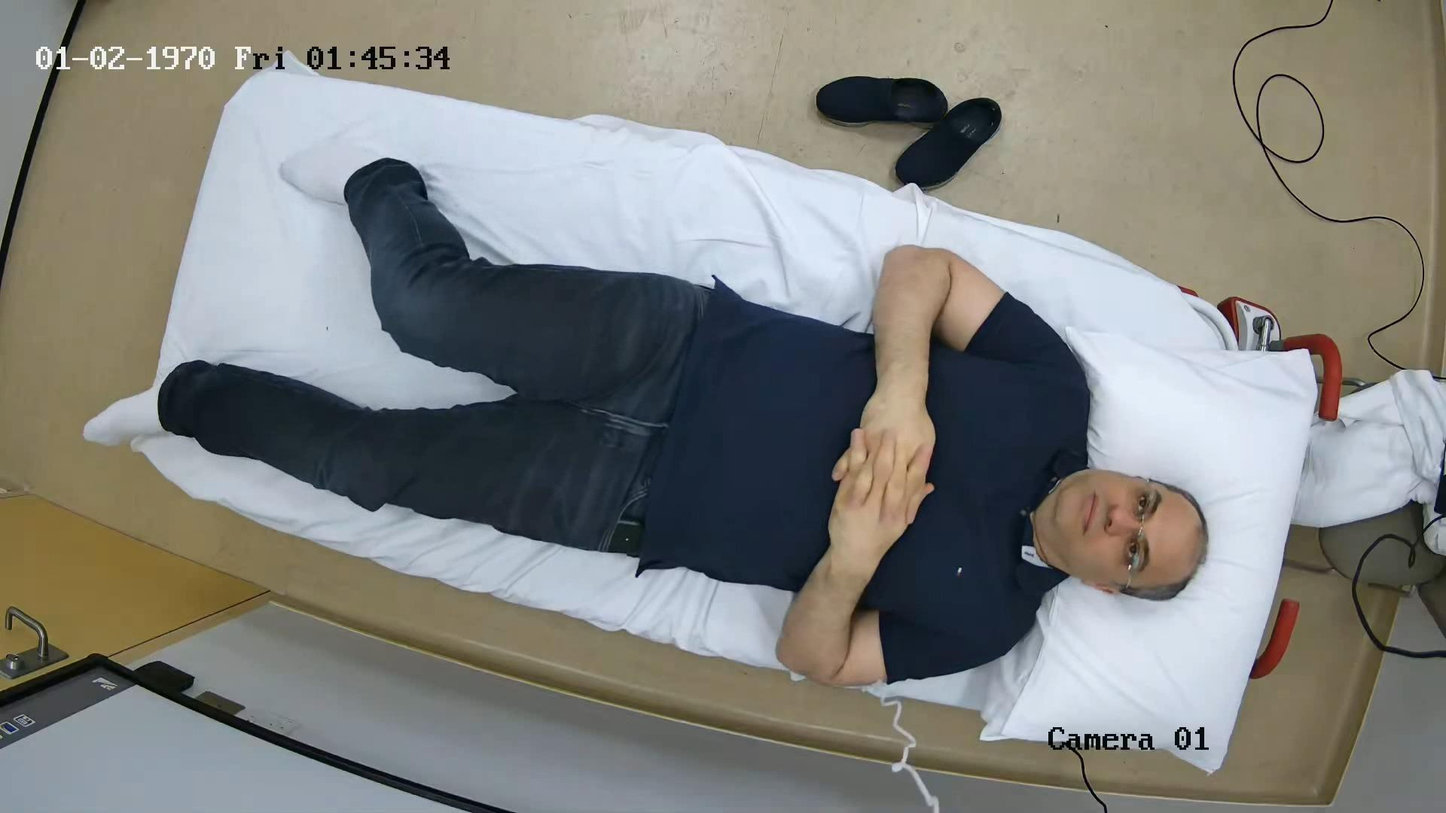bed: (134, 61, 1341, 772)
patient: (157, 158, 1207, 685)
